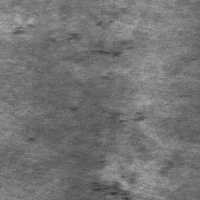rolled-in_scale: (93, 107, 155, 200), (17, 14, 134, 61)
